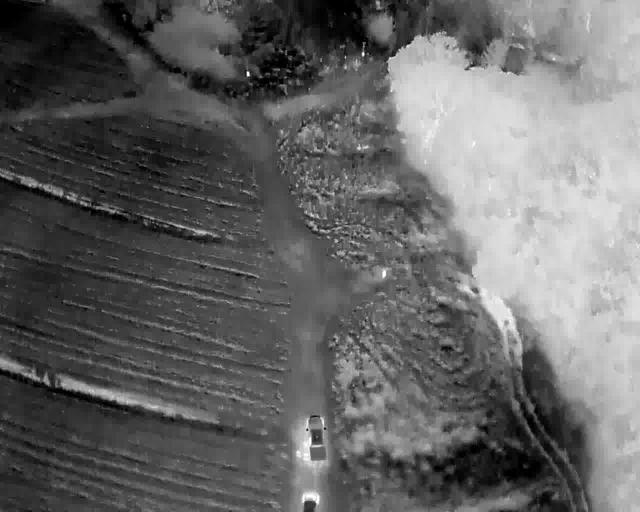car: (307, 413, 328, 463), (303, 491, 319, 510)
person: (295, 450, 301, 459), (381, 269, 386, 278)
